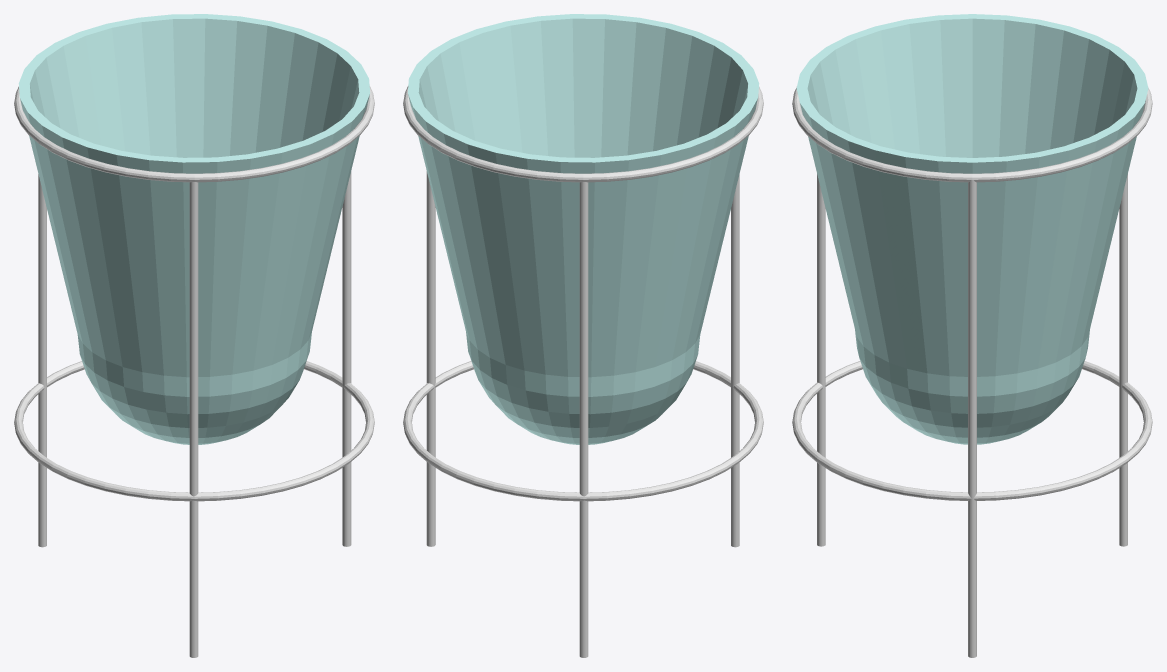
The model's file is driepoot.glb.
The picture shows the model from 3 angles, left to right: view 1: azimuth 30°, elevation 25°; view 2: azimuth 150°, elevation 25°; view 3: azimuth 270°, elevation 25°; orthographic projection.
Visible parts, largest first — view 1: Sphere, Cylinder.001; view 2: Sphere, Cylinder.001; view 3: Sphere, Cylinder.001.
Boxes of the visible parts, bbox=[...] form: Sphere: bbox=[18, 14, 370, 444]; Cylinder.001: bbox=[14, 86, 374, 657]; Sphere: bbox=[407, 14, 759, 444]; Cylinder.001: bbox=[403, 86, 763, 657]; Sphere: bbox=[796, 14, 1148, 444]; Cylinder.001: bbox=[792, 88, 1152, 657].
Size of the model in its own units: 4.1 by 6.19 by 4.1.
